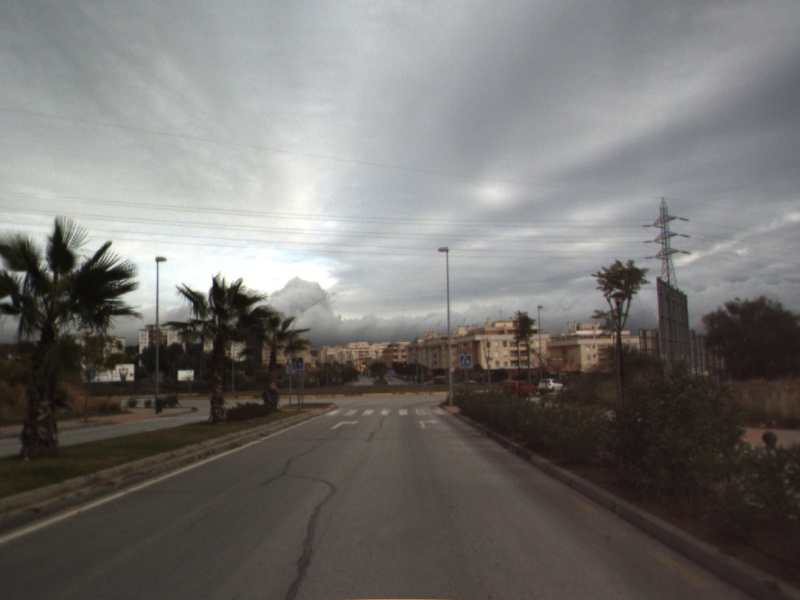RIGHT: (330, 418, 360, 431), (417, 417, 441, 430)
